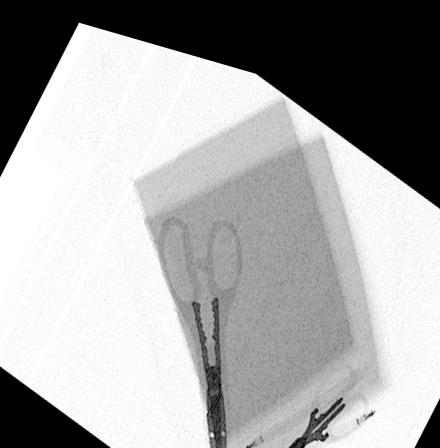Scissors: (156, 204, 246, 448), (271, 339, 373, 448)
